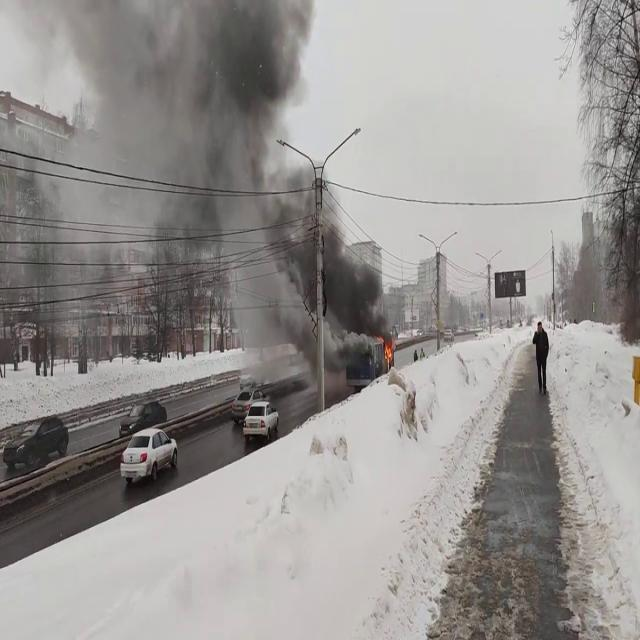Fire: (380, 330, 396, 370)
Smoke: (49, 0, 388, 353)
